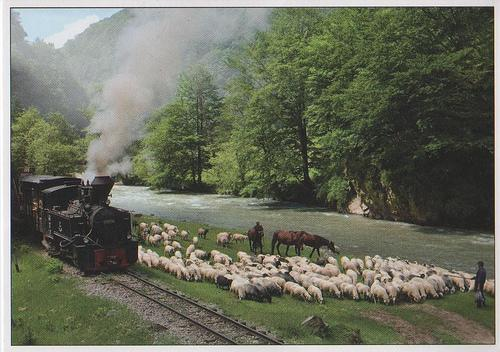Train: (16, 168, 139, 273)
